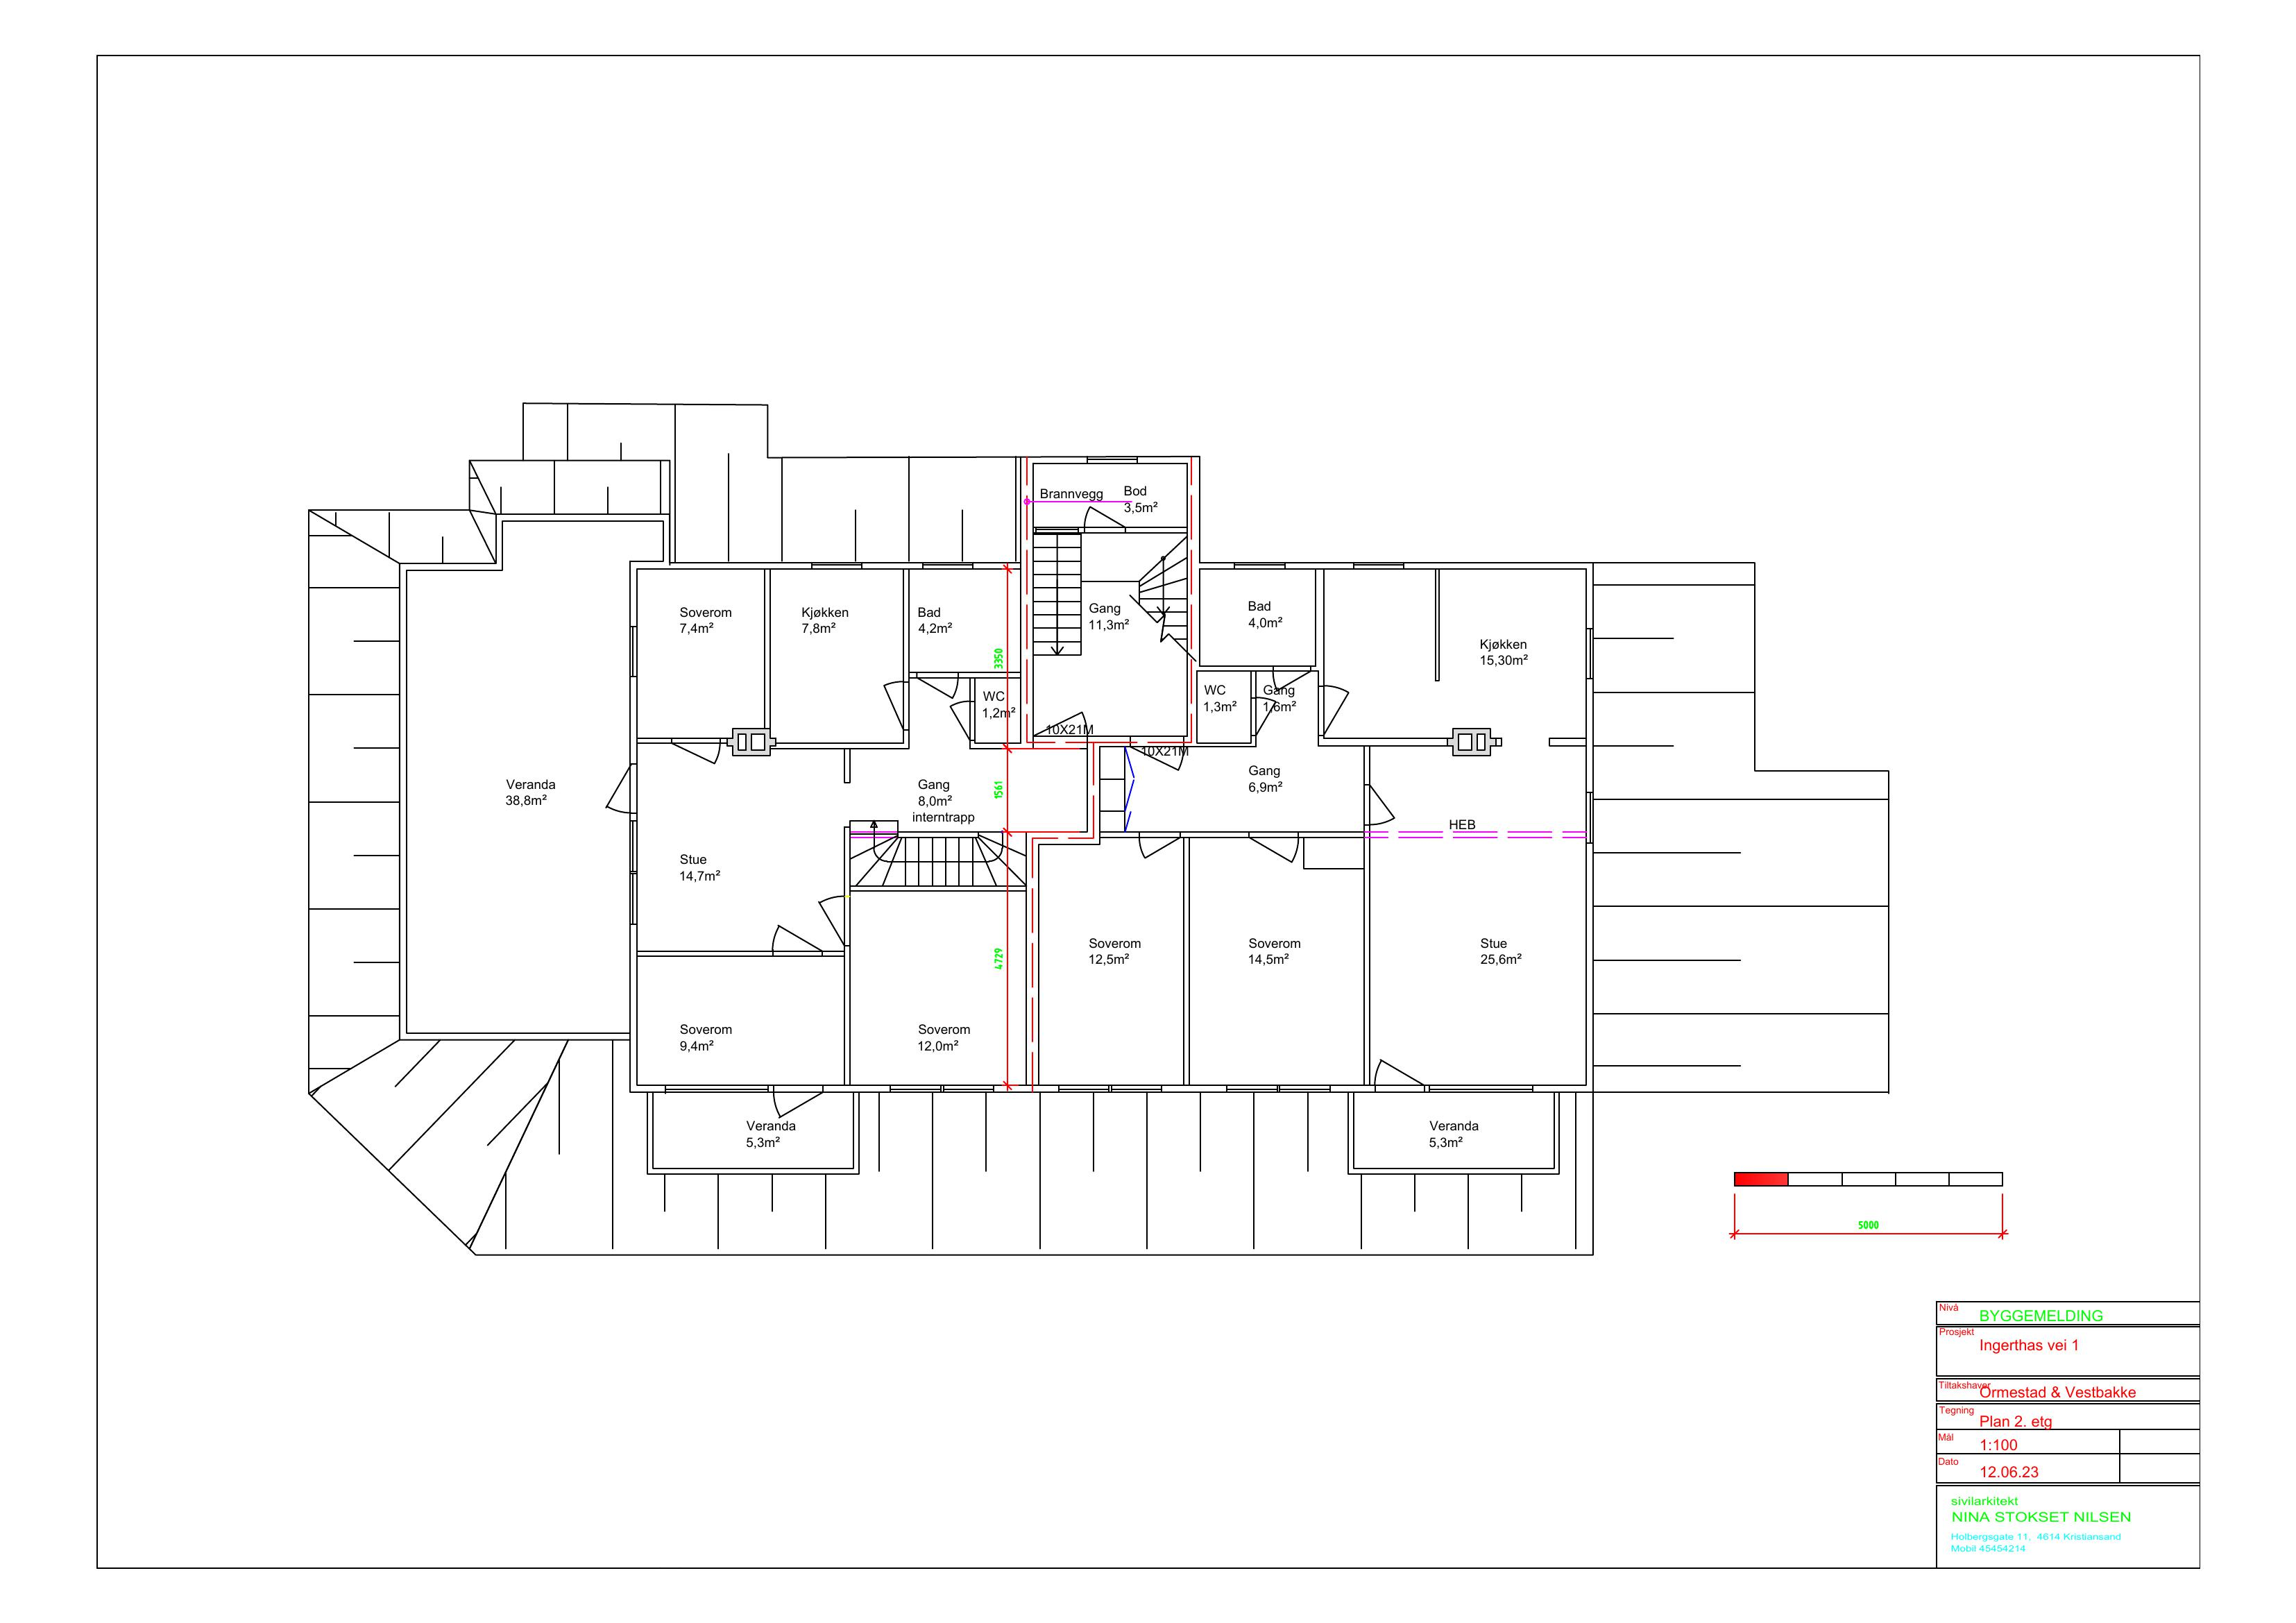plantegning: (288, 397, 1901, 1252)
